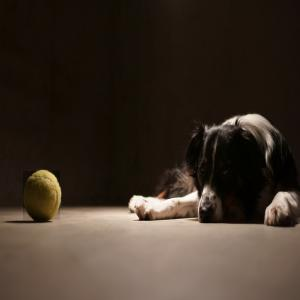TennisBall: (24, 172, 62, 222)
